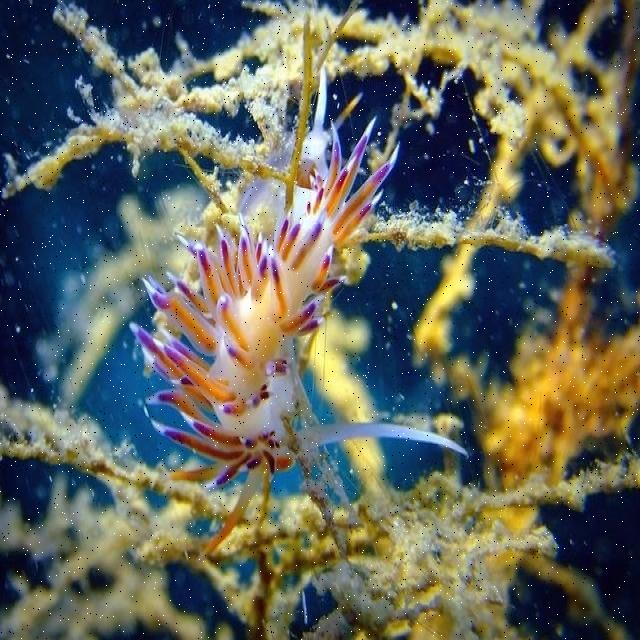reefs: (129, 67, 470, 565)
